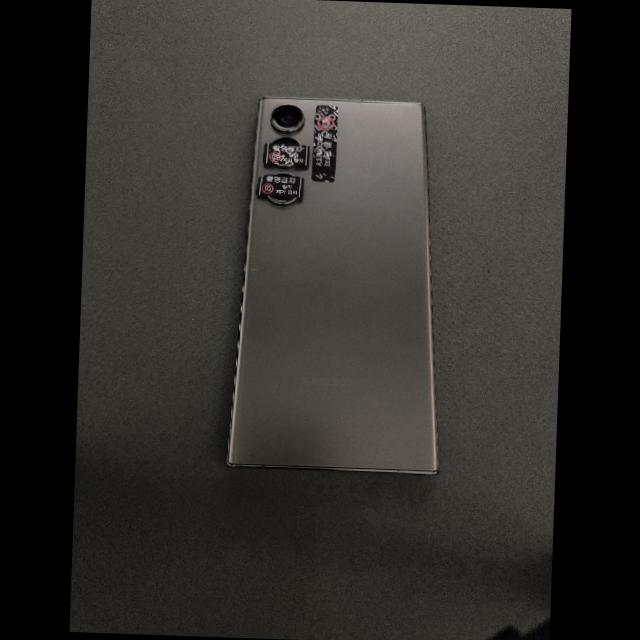lens: (271, 103, 305, 133), (269, 197, 298, 206), (272, 138, 302, 146)
phone: (226, 96, 438, 474)
sticker: (311, 104, 337, 182), (263, 143, 310, 168), (255, 175, 303, 198)
